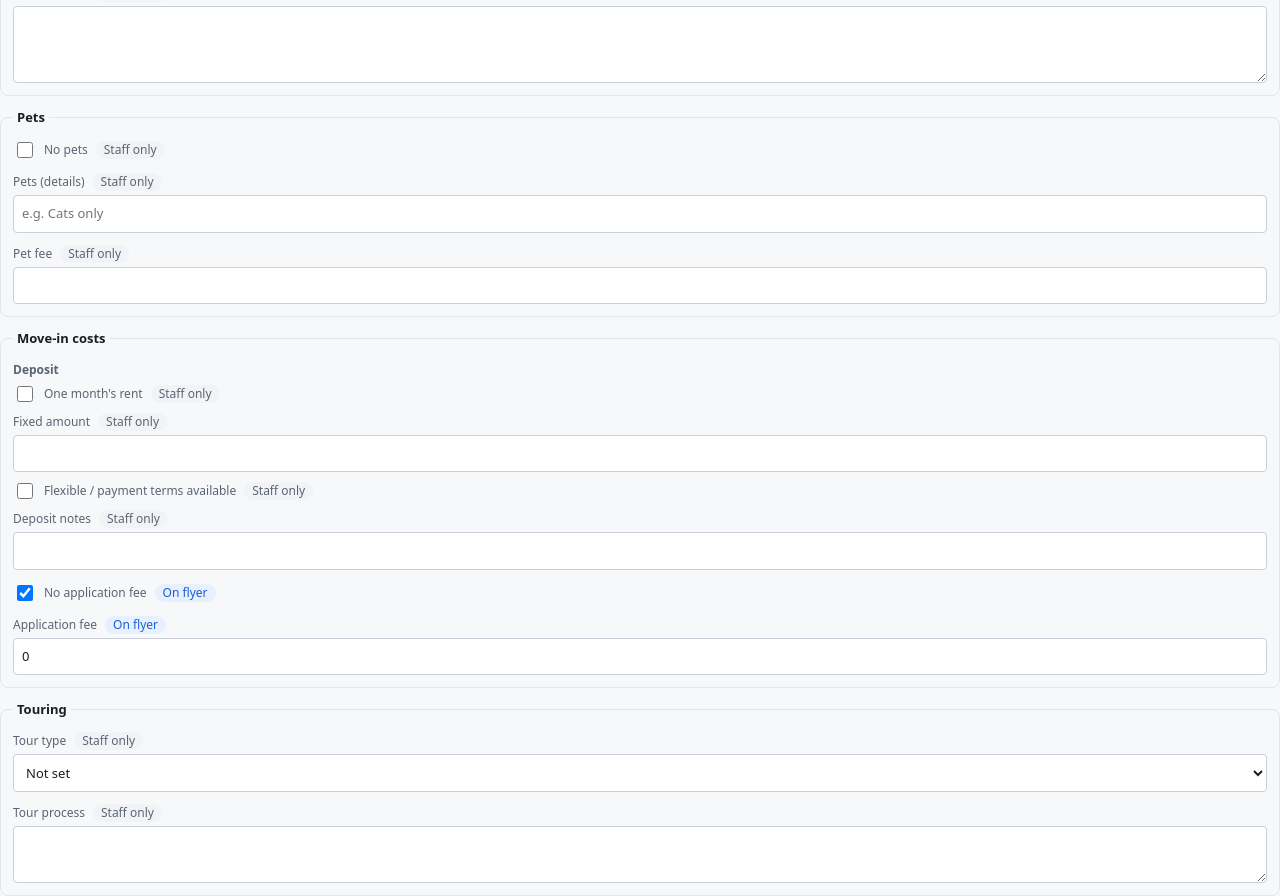
Test case: RequirementsFields › only the checkbox sets the flag: ticked it records 0, unticked the amount is blank again
The width and height of the screenshot is (1280, 896).
(page scrolled)
Click the checkbox labelled "No application fee" at point(25, 592), box [17, 584, 33, 600]
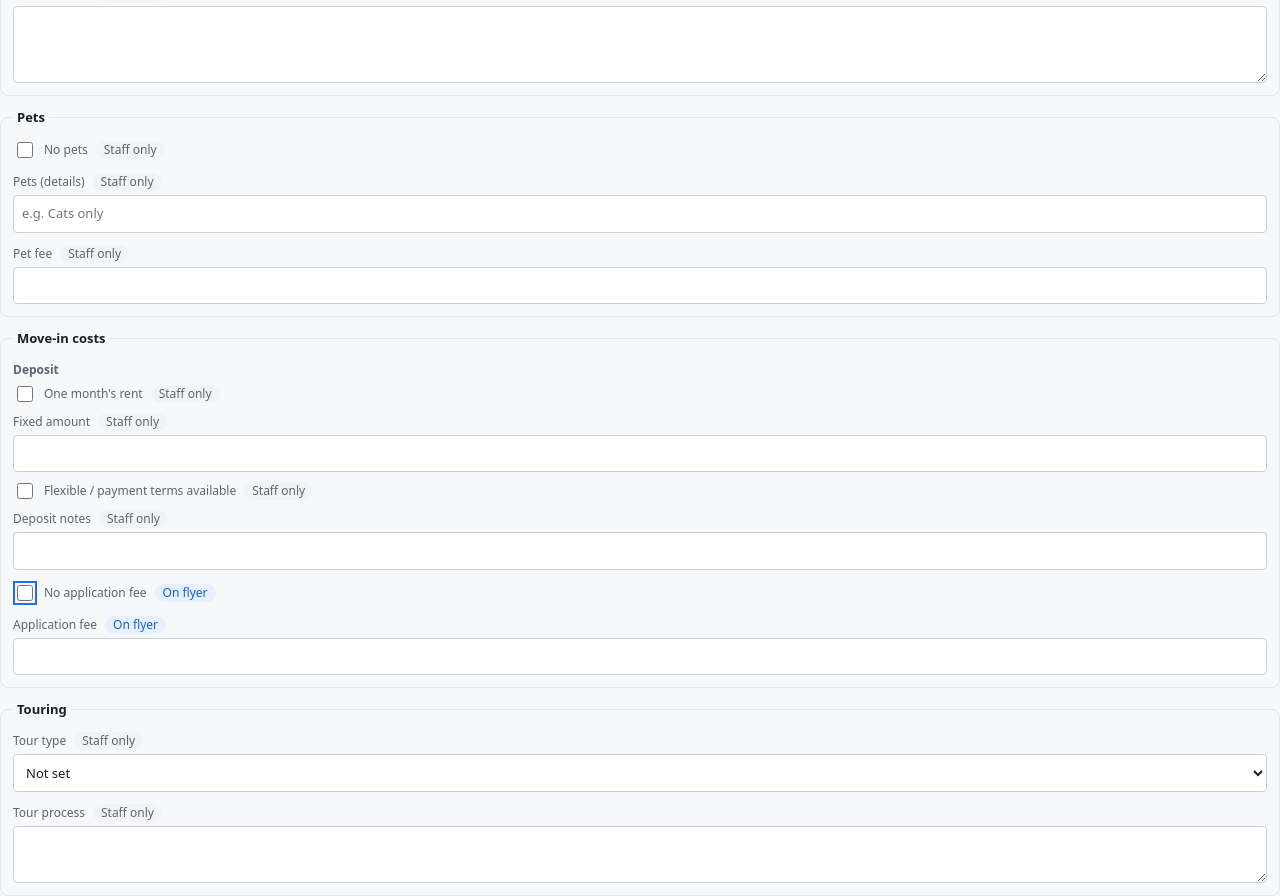
Type "0" into the number field labelled "Application fee" at point(640, 656), box [13, 638, 1267, 675]
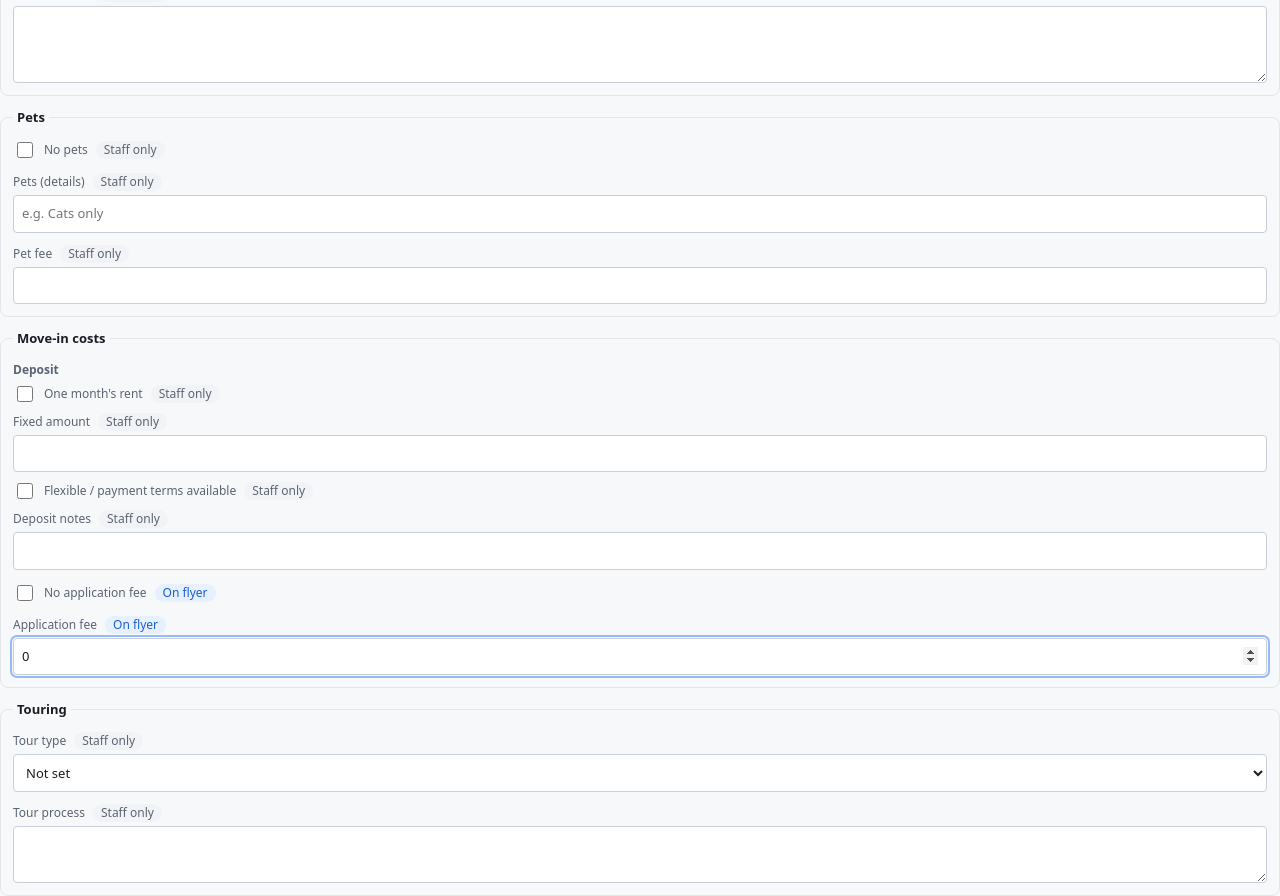
Expected: the checkbox labelled "No application fee" is not checked
Click the checkbox labelled "No application fee" at point(25, 592), box [17, 584, 33, 600]
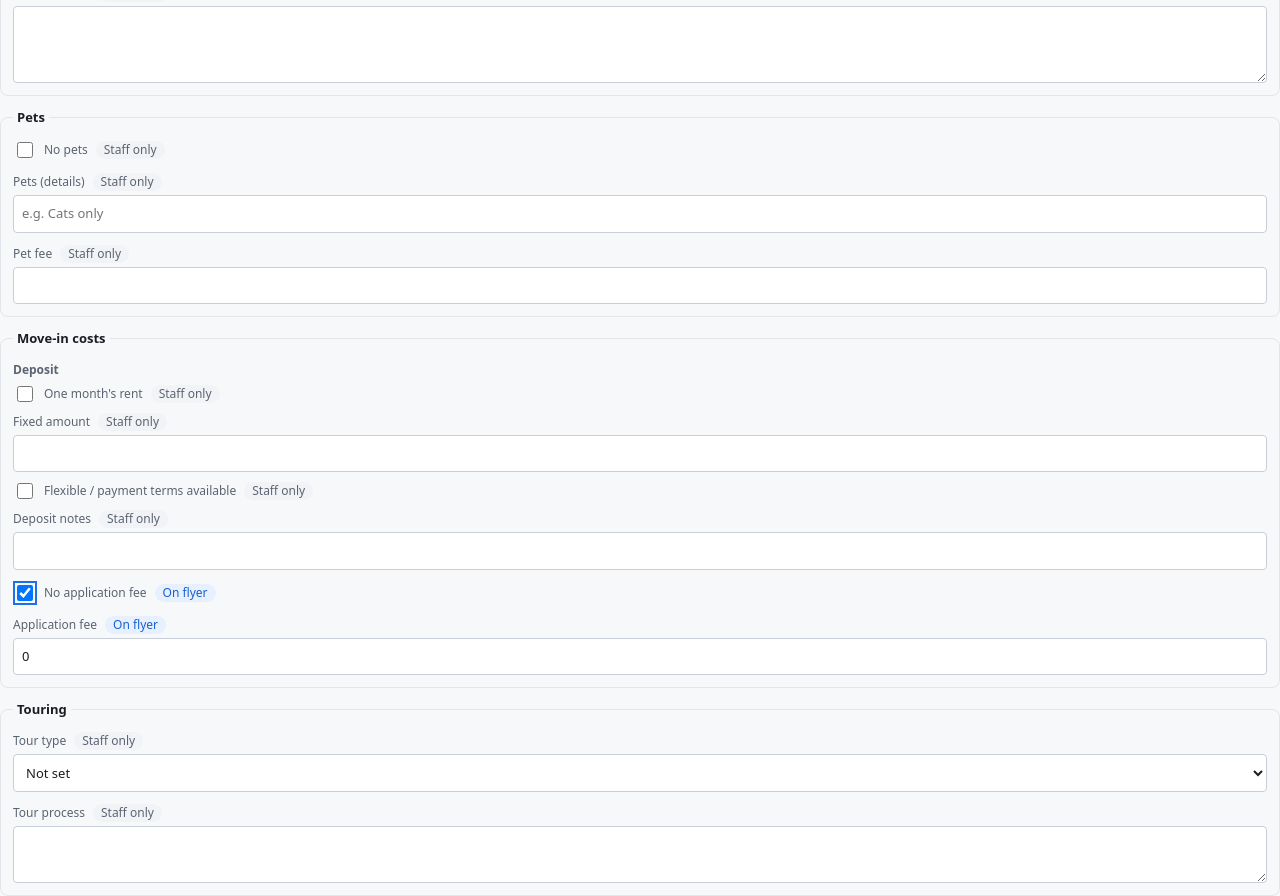
Expected: the number field labelled "Application fee" is disabled, [13, 638, 1267, 675]
